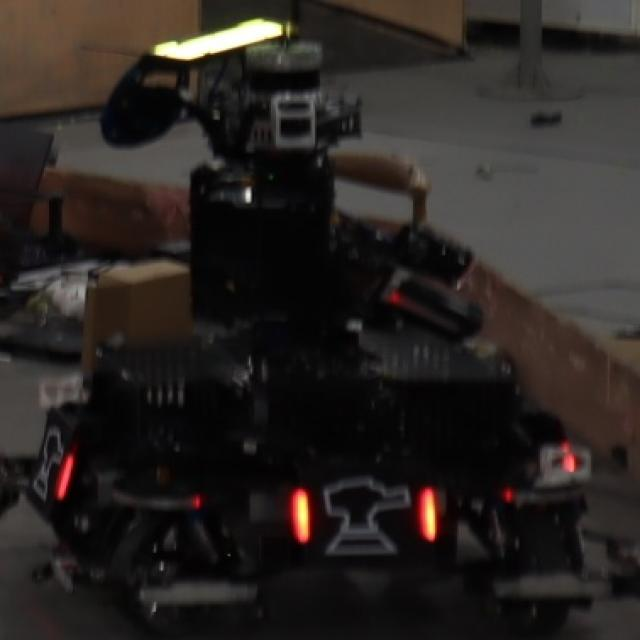Rs: (288, 473, 440, 559), (32, 418, 78, 510)
